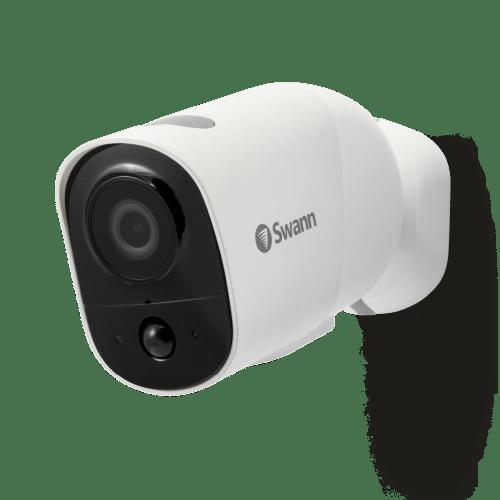camera: (28, 21, 460, 405)
